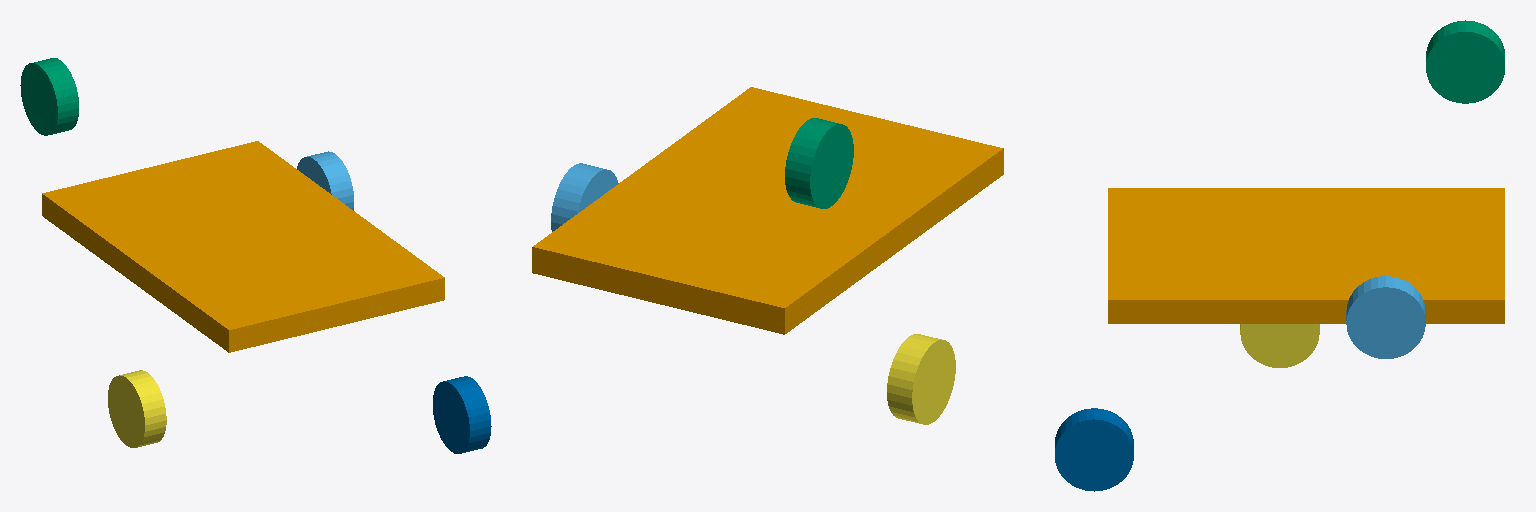
URDF robot description ([local-path]/Desktop/SLRC_simulations/Robot.urdf):
<?xml version="1.0"?>
<robot name="[local-path]/Desktop/SLRC_simulations/Robot.urdf" xmlns:xacro="http://ros.org/wiki/xacro">
  <link name="base_link">
    <visual>
      <geometry>
        <box size="0.1 0.15 0.01"/>
      </geometry>
    </visual>
    <collision>
      <geometry>
        <box size="0.1 0.15 0.01"/>
      </geometry>
    </collision>
  </link>
  <joint name="rotational motor" type="continuous">
    <parent link="base_link"/>
    <child link="solid"/>
    <axis xyz="-0.000004 0 1"/>
    <limit effort="10" velocity="10"/>
    <origin xyz="0 0 0" rpy="3.13036 1.570792 3.13036"/>
  </joint>
  <link name="solid">
    <visual>
      <origin xyz="0 0.03 0.055" rpy="0 0 0"/>
      <geometry>
        <cylinder radius="0.015" length="0.01"/>
      </geometry>
    </visual>
    <collision>
      <origin xyz="0 0.03 0.055" rpy="0 0 0"/>
      <geometry>
        <cylinder radius="0.015" length="0.01"/>
      </geometry>
    </collision>
  </link>
  <joint name="rotational motor" type="continuous">
    <parent link="base_link"/>
    <child link="solid(1)"/>
    <axis xyz="-0.000003 0 1"/>
    <limit effort="10" velocity="10"/>
    <origin xyz="0 0.03 0.055" rpy="3.128141 1.570793 3.128141"/>
  </joint>
  <link name="solid(1)">
    <visual>
      <origin xyz="0.000001 0.03 -0.055" rpy="0 0 0"/>
      <geometry>
        <cylinder radius="0.015" length="0.01"/>
      </geometry>
    </visual>
    <collision>
      <origin xyz="0.000001 0.03 -0.055" rpy="0 0 0"/>
      <geometry>
        <cylinder radius="0.015" length="0.01"/>
      </geometry>
    </collision>
  </link>
  <joint name="rotational motor" type="continuous">
    <parent link="base_link"/>
    <child link="solid(2)"/>
    <axis xyz="-0.000003 0 1"/>
    <limit effort="10" velocity="10"/>
    <origin xyz="0.000001 0.03 -0.055" rpy="-3.135192 1.570793 -3.135192"/>
  </joint>
  <link name="solid(2)">
    <visual>
      <origin xyz="0.000001 -0.04 -0.055" rpy="0 0 0"/>
      <geometry>
        <cylinder radius="0.015" length="0.01"/>
      </geometry>
    </visual>
    <collision>
      <origin xyz="0.000001 -0.04 -0.055" rpy="0 0 0"/>
      <geometry>
        <cylinder radius="0.015" length="0.01"/>
      </geometry>
    </collision>
  </link>
  <joint name="rotational motor" type="continuous">
    <parent link="base_link"/>
    <child link="solid(3)"/>
    <axis xyz="-0.000004 0 1"/>
    <limit effort="10" velocity="10"/>
    <origin xyz="0.000001 -0.04 -0.055" rpy="3.140268 1.570792 3.140268"/>
  </joint>
  <link name="solid(3)">
    <visual>
      <origin xyz="0 -0.04 0.055" rpy="0 0 0"/>
      <geometry>
        <cylinder radius="0.015" length="0.01"/>
      </geometry>
    </visual>
    <collision>
      <origin xyz="0 -0.04 0.055" rpy="0 0 0"/>
      <geometry>
        <cylinder radius="0.015" length="0.01"/>
      </geometry>
    </collision>
  </link>
  <link name="distance sensor">
  </link>
  <joint name="base_link_distance sensor_joint" type="fixed">
    <parent link="base_link"/>
    <child link="distance sensor"/>
    <origin xyz="0 0.03 0.06" rpy="0 0 1.5708"/>
  </joint>
  <link name="distance sensor(1)">
  </link>
  <joint name="base_link_distance sensor(1)_joint" type="fixed">
    <parent link="base_link"/>
    <child link="distance sensor(1)"/>
    <origin xyz="0 0.07 0.005" rpy="0 0 0.7854"/>
  </joint>
  <link name="distance sensor(2)">
  </link>
  <joint name="base_link_distance sensor(2)_joint" type="fixed">
    <parent link="base_link"/>
    <child link="distance sensor(2)"/>
    <origin xyz="0 0.07 0.005" rpy="0 0 0"/>
  </joint>
  <link name="distance sensor(3)">
  </link>
  <joint name="base_link_distance sensor(3)_joint" type="fixed">
    <parent link="base_link"/>
    <child link="distance sensor(3)"/>
    <origin xyz="0 0.07 0.005" rpy="0 0 2.3562"/>
  </joint>
  <link name="distance sensor(4)">
  </link>
  <joint name="base_link_distance sensor(4)_joint" type="fixed">
    <parent link="base_link"/>
    <child link="distance sensor(4)"/>
    <origin xyz="0 0.07 0.005" rpy="0 0 3.141593"/>
  </joint>
</robot>

--- Render facts (derived) ---
Views: 3 orthographic renders of the robot side by side, from view 1: azimuth 30°, elevation 25°; view 2: azimuth 150°, elevation 25°; view 3: azimuth 270°, elevation 25°.
Robot: [local-path]/Desktop/SLRC_simulations/Robot.urdf — 10 links, 9 joints (4 continuous, 5 fixed); root link base_link; default pose: every joint at zero.
Links seen in each view (by area): view 1: base_link, solid(2), solid(1), solid(3), solid; view 2: base_link, solid(1), solid(2), solid; view 3: base_link, solid, solid(1), solid(3), solid(2).
Boxes of the visible links, x1=… form: base_link: x1=42, y1=141, x2=444, y2=352; solid(2): x1=108, y1=370, x2=166, y2=447; solid(1): x1=20, y1=58, x2=78, y2=135; solid(3): x1=433, y1=376, x2=491, y2=453; solid: x1=297, y1=151, x2=353, y2=210; base_link: x1=532, y1=87, x2=1003, y2=334; solid(1): x1=785, y1=118, x2=853, y2=208; solid(2): x1=887, y1=334, x2=955, y2=424; solid: x1=551, y1=163, x2=618, y2=231; base_link: x1=1108, y1=188, x2=1504, y2=323; solid: x1=1346, y1=276, x2=1425, y2=358; solid(1): x1=1426, y1=20, x2=1504, y2=103; solid(3): x1=1055, y1=408, x2=1133, y2=491; solid(2): x1=1240, y1=324, x2=1319, y2=367.
Bounding box of the posed robot: 0.12 × 0.17 × 0.14 m (x, y, z).
Geometry: primitives only (box / cylinder / sphere), no mesh files.
